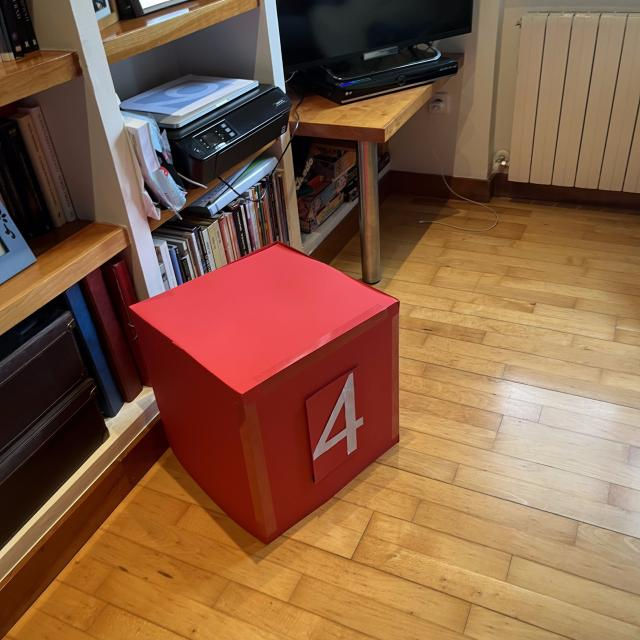box: (125, 238, 405, 545)
